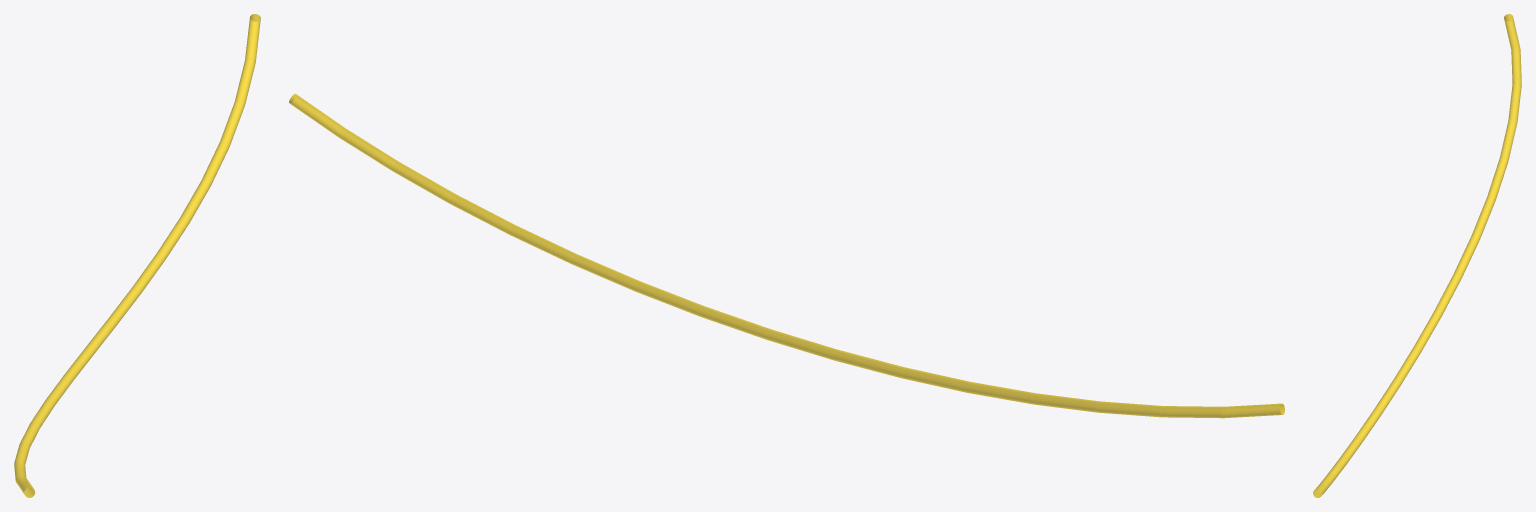
Rendered from Event_100608114_track_86.fbx.
3 renders of one model, left to right at view 1: azimuth 90°, elevation 25°; view 2: azimuth 150°, elevation 25°; view 3: azimuth 270°, elevation 25°, orthographic. The views are drawn at different scales.
Visible parts, largest first — view 1: Model; view 2: Model; view 3: Model.
Part boxes in pixels (<box>): Model: <box>14,14,260,497</box>; Model: <box>289,94,1284,418</box>; Model: <box>1313,14,1521,497</box>.
Bounding box in the file's own units: 4.46 × 0.4287 × 0.8935.
